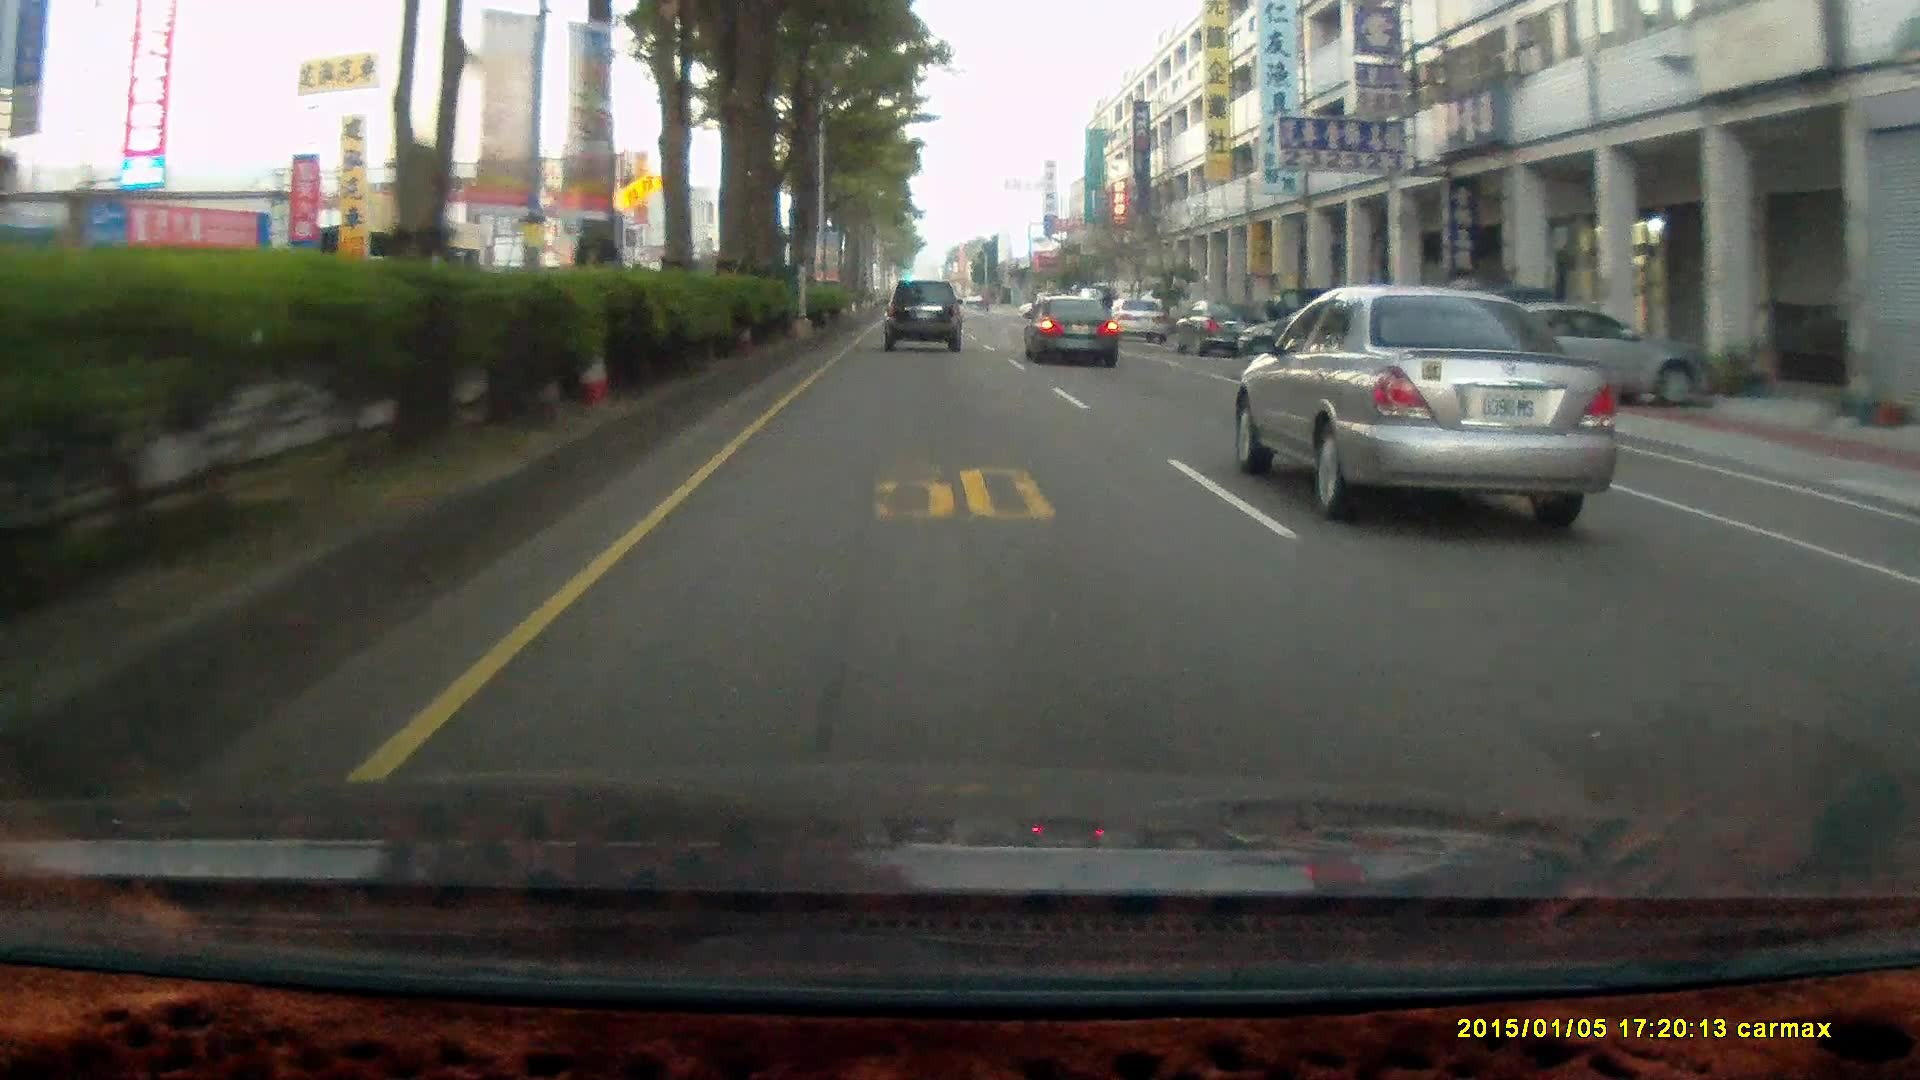vehicle: (1226, 286, 1633, 529), (1429, 301, 1721, 410), (1433, 299, 1721, 409), (1026, 293, 1124, 365), (1021, 294, 1116, 368), (885, 280, 967, 357), (881, 280, 964, 349), (1170, 295, 1261, 355), (1109, 295, 1168, 345), (1106, 294, 1167, 343)
